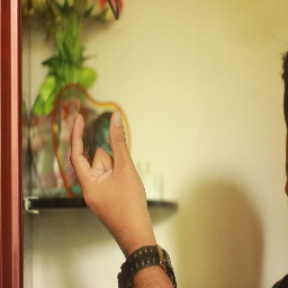U: (61, 97, 158, 218)
